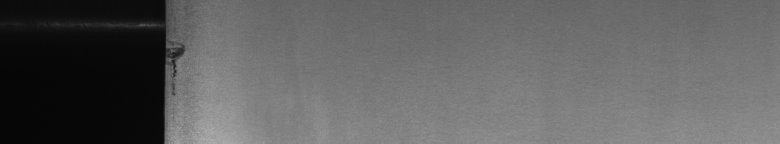hb: (176, 36, 193, 77)
